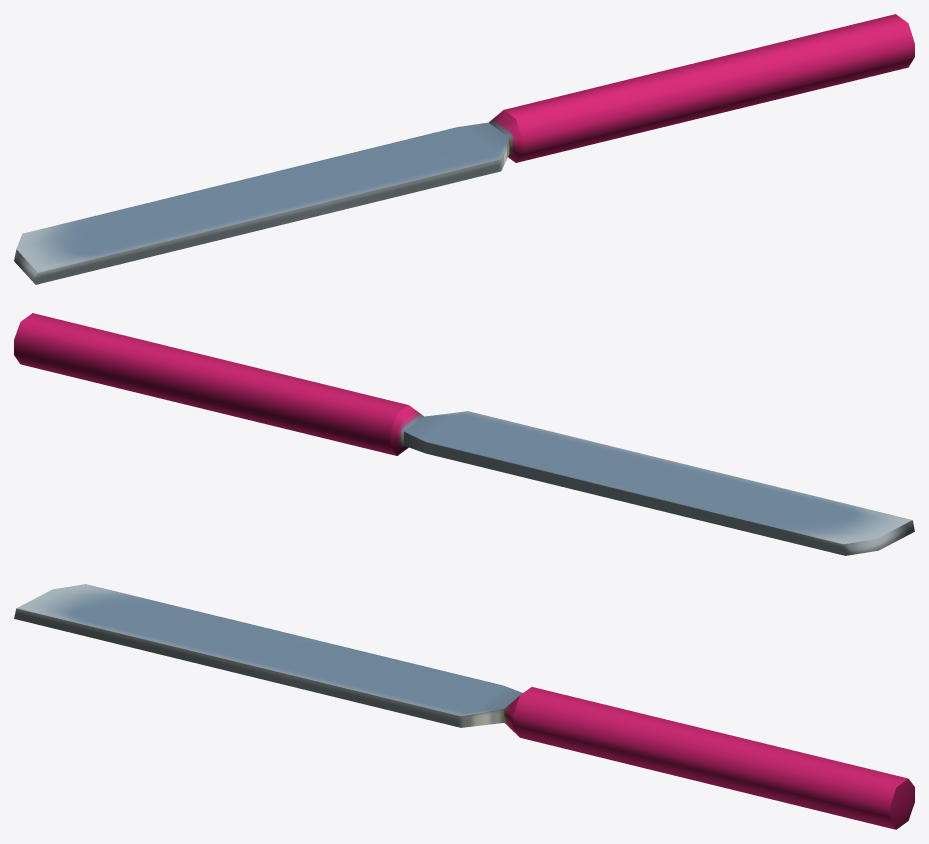
File: Cake_Knife_02.fbx
3 renders of one model, top to bottom at view 1: azimuth 30°, elevation 25°; view 2: azimuth 150°, elevation 25°; view 3: azimuth 330°, elevation 25°, orthographic. The views are drawn at different scales.
Visible parts, largest first — view 1: Cake_Knife_02; view 2: Cake_Knife_02; view 3: Cake_Knife_02.
Boxes of the visible parts, <box> form: Cake_Knife_02: <box>14,14,914,284</box>; Cake_Knife_02: <box>14,313,914,555</box>; Cake_Knife_02: <box>14,584,914,829</box>.
Bounding box in the file's own units: 120 × 5.61 × 10.13.
